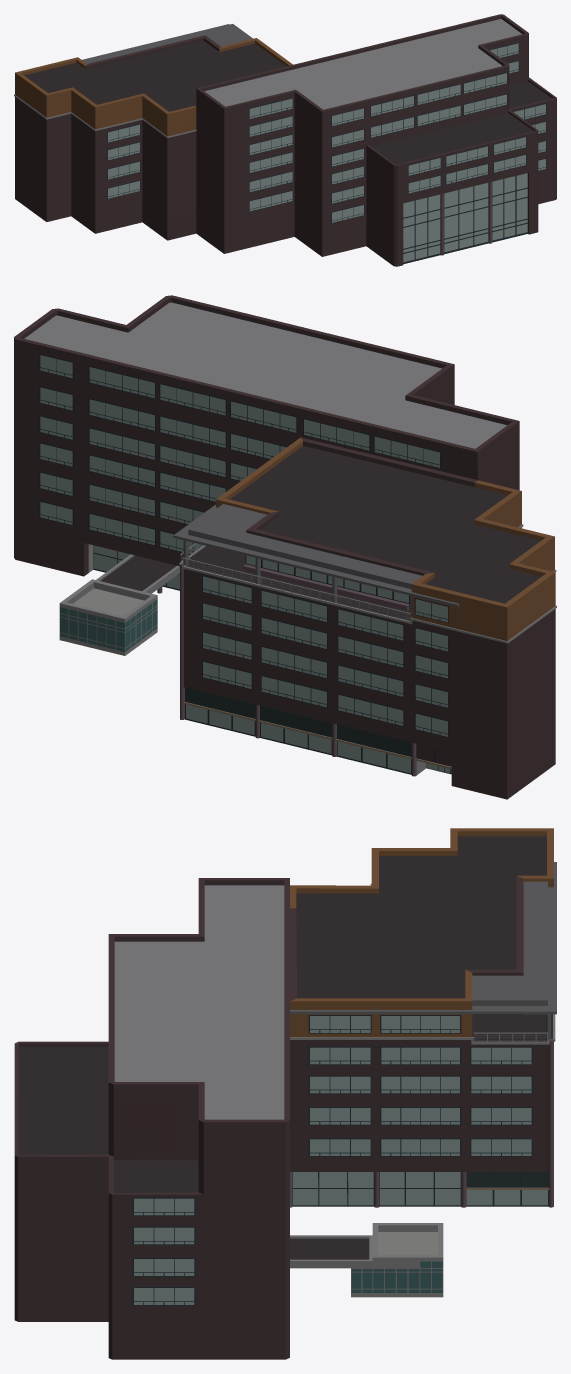
File: 02_도서관.FBX
3 renders of one model, top to bottom at view 1: azimuth 30°, elevation 25°; view 2: azimuth 150°, elevation 25°; view 3: azimuth 270°, elevation 25°, orthographic. The views are drawn at different scales.
Visible parts, largest first — view 1: 02_도서관; view 2: 02_도서관; view 3: 02_도서관.
Part boxes in pixels (<box>): 02_도서관: <box>14,14,556,266</box>; 02_도서관: <box>14,295,556,799</box>; 02_도서관: <box>14,828,556,1359</box>.
Size of the model in its own units: 295 by 100 by 208.
